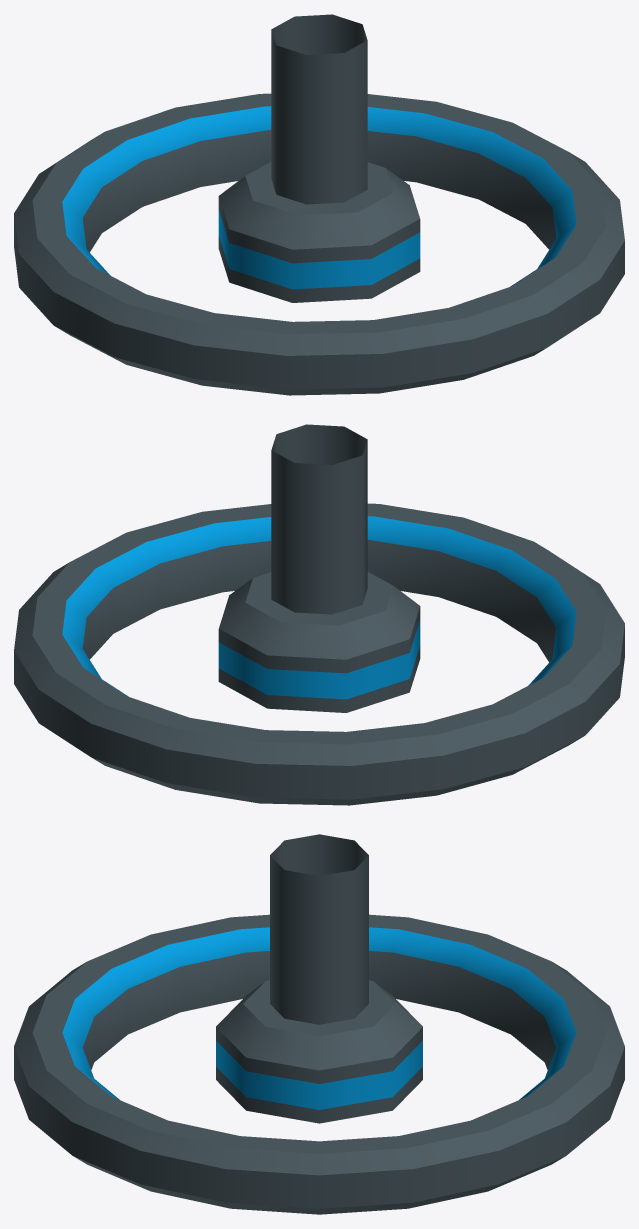
The model's file is Armchair_Leg_001.fbx.
The picture shows the model from 3 angles, top to bottom: view 1: azimuth 30°, elevation 25°; view 2: azimuth 150°, elevation 25°; view 3: azimuth 270°, elevation 25°; orthographic projection.
Parts seen in each view (by area): view 1: Armchair_Leg_001; view 2: Armchair_Leg_001; view 3: Armchair_Leg_001.
Part boxes in pixels (left/top/right/bottom): Armchair_Leg_001: left=14, top=14, right=624, bottom=395; Armchair_Leg_001: left=14, top=424, right=624, bottom=805; Armchair_Leg_001: left=14, top=834, right=624, bottom=1214.
Bounding box in the file's own units: 70.59 × 70.59 × 30.36.
